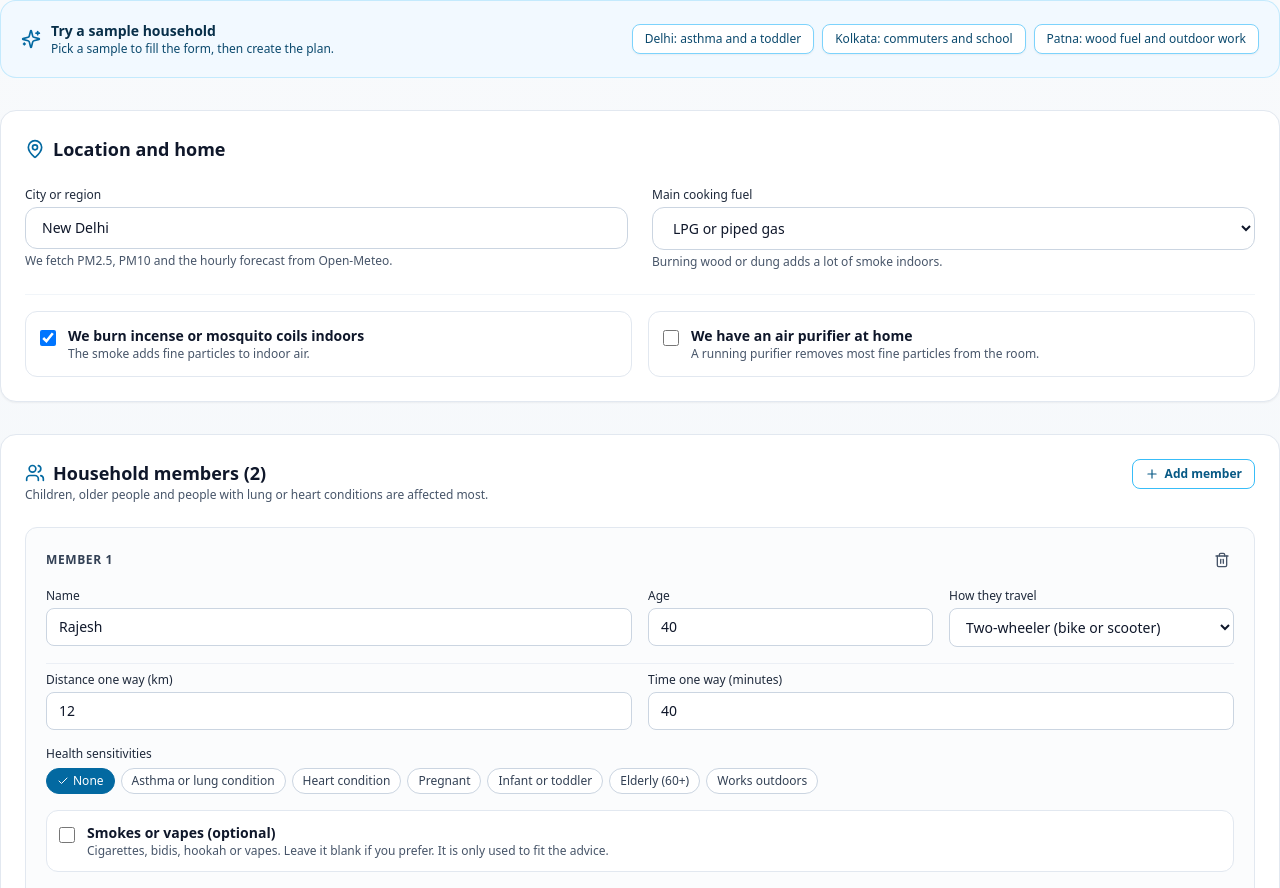
Test case: HouseholdForm › sample households › fills the whole form
The width and height of the screenshot is (1280, 888).
Click the button "Kolkata: commuters and school": (924, 39) x1=822 y1=24 x2=1026 y2=54
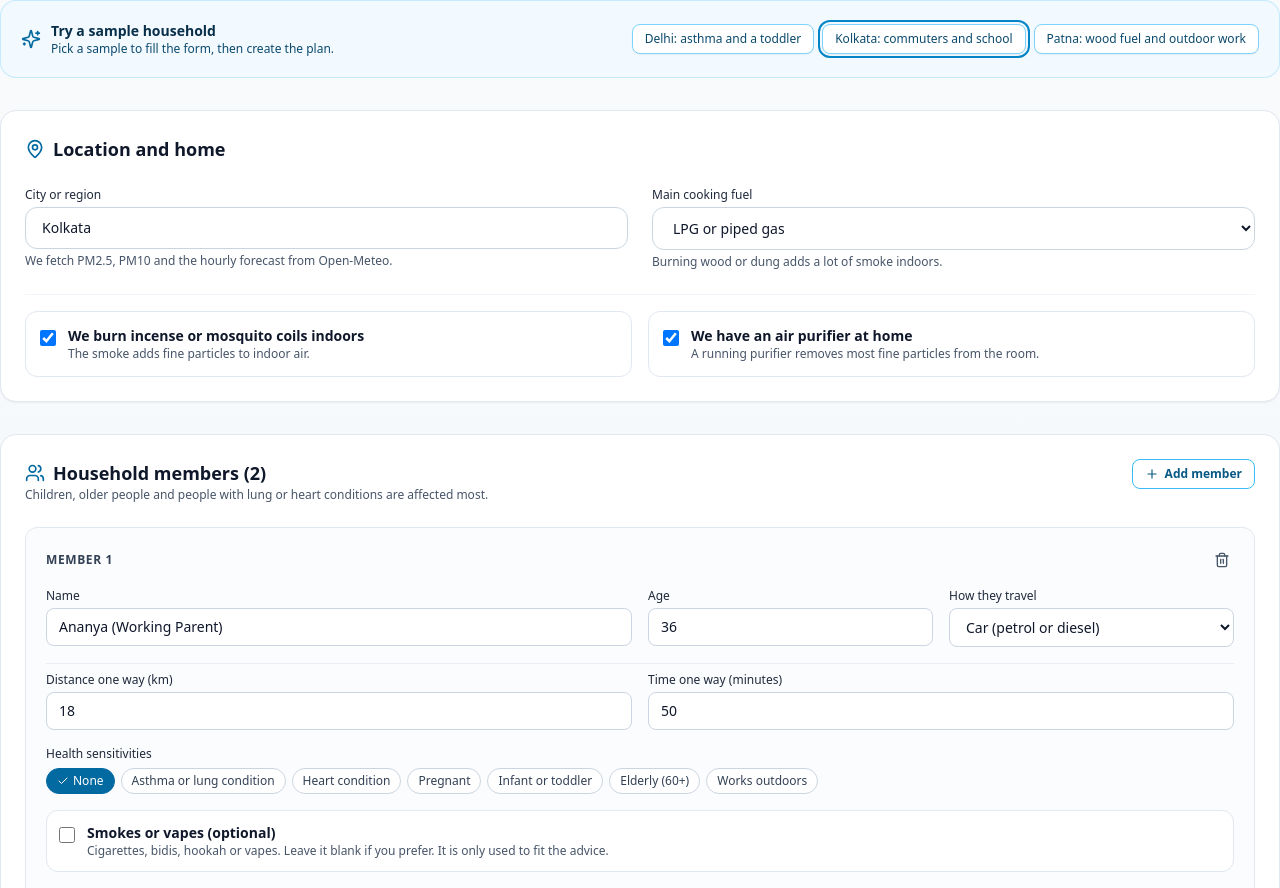
Check: the field labelled "City or region" holds "Kolkata", box x1=25 y1=207 x2=628 y2=249
